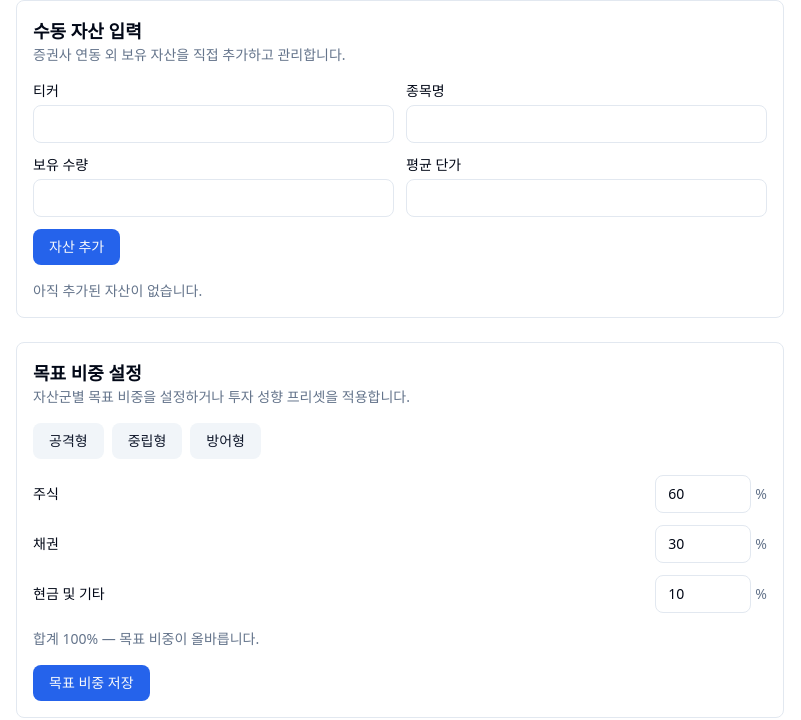
Test: SettingsPortfolioPanel — 목표 비중 › 공격형 프리셋을 적용하면 비중이 반영된다
This screenshot has width=801, height=720.
expect the field labelled "티커" is shown: met, box x1=33 y1=105 x2=394 y2=143
expect the number field named "주식 목표 비중" is shown: met, box x1=655 y1=475 x2=751 y2=513
Click the button "공격형".
click(68, 441)  # box x1=33 y1=423 x2=104 y2=459
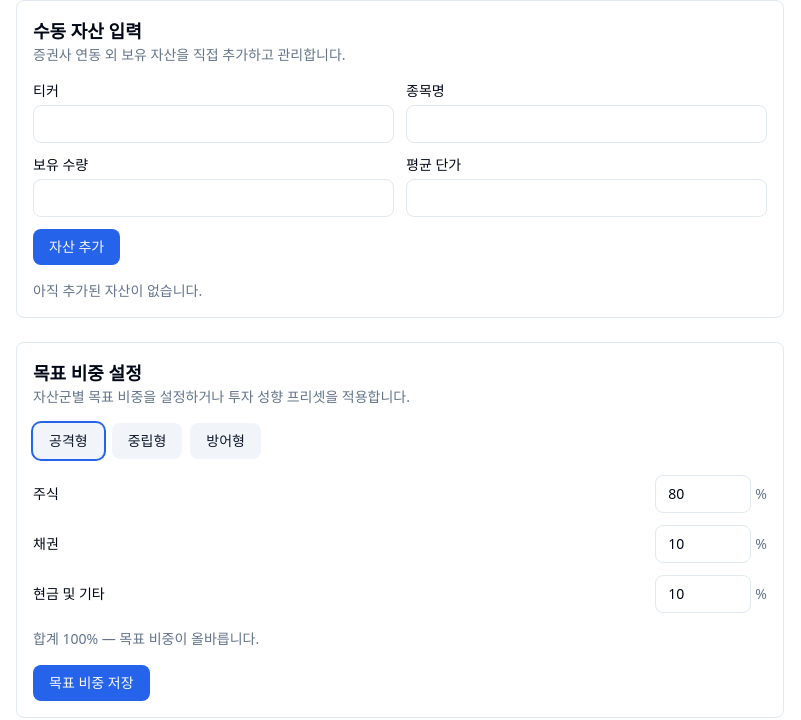
expect the number field named "현금 및 기타 목표 비중" holds "10": met, box x1=655 y1=575 x2=751 y2=613
expect the number field named "주식 목표 비중" holds "80": met, box x1=655 y1=475 x2=751 y2=513
expect the number field named "채권 목표 비중" holds "10": met, box x1=655 y1=525 x2=751 y2=563
